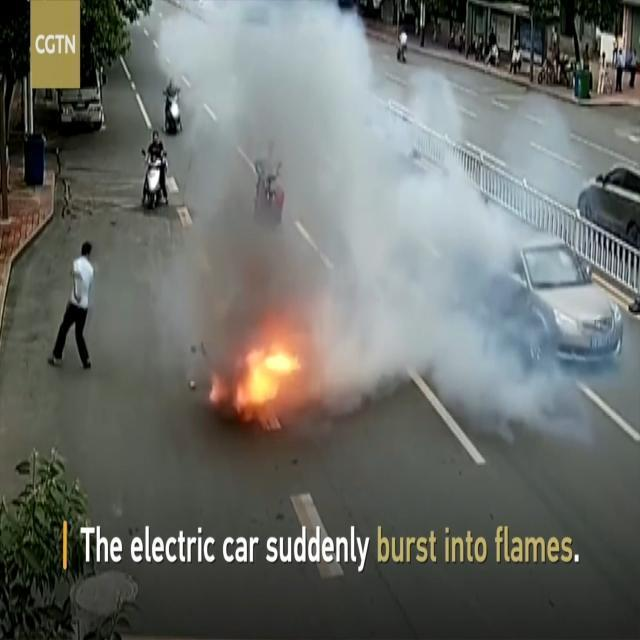fire: (206, 320, 311, 420)
